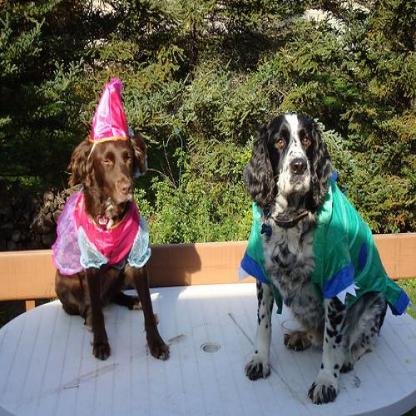English_springer: (237, 109, 389, 406), (52, 121, 172, 363)
